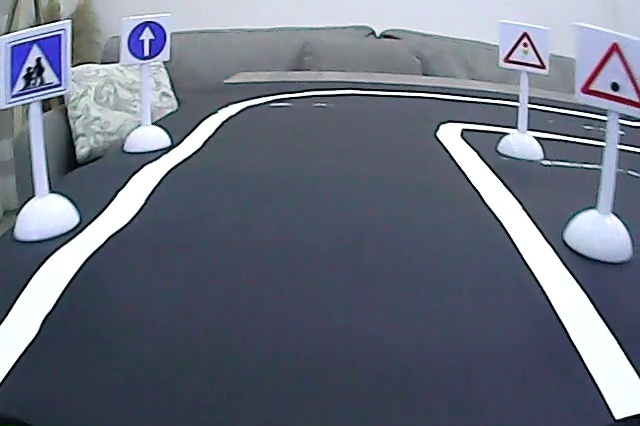green light: (576, 35, 640, 114)
red light: (500, 27, 549, 74)
school crossing: (5, 27, 67, 102)
